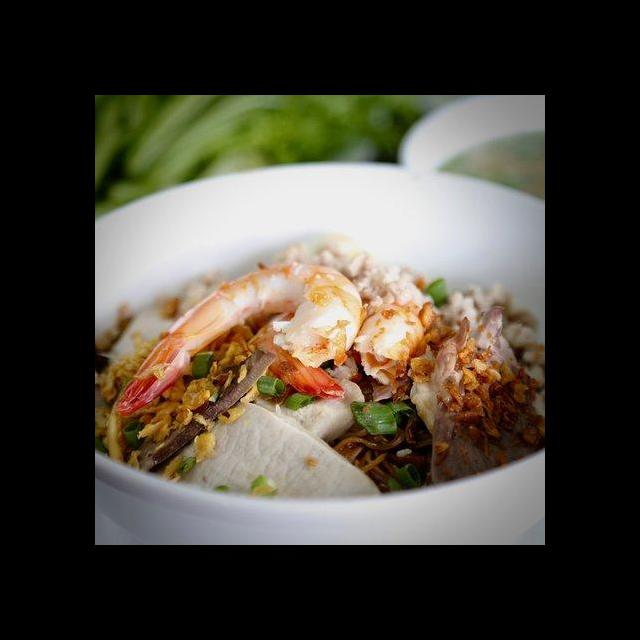gan: (130, 341, 281, 475)
thit heo: (162, 394, 388, 505), (401, 297, 529, 436), (248, 362, 368, 447)
tom: (108, 256, 368, 422), (246, 278, 435, 406)
